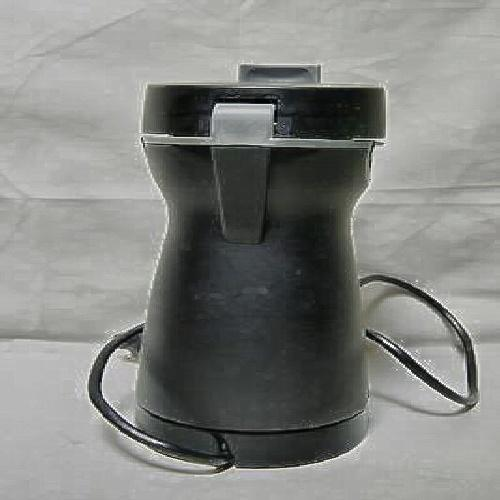coffee_maker: (116, 68, 400, 459)
